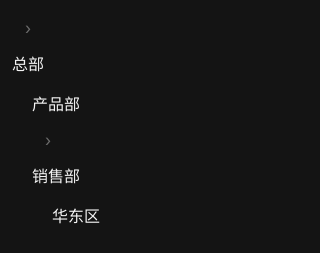
it: Tree › renders nested nodes and lets a branch collapse and expand
Expected: the button "总部" is shown, [12,44,44,84]
Expected: the button "产品部" is shown, [32,84,80,124]
Click the button named "收起 销售部": (48, 140) [32,124,64,156]
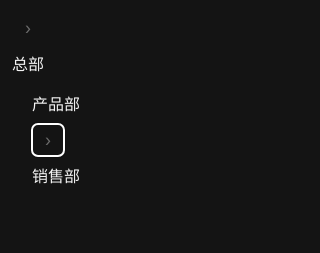
Now the button "华东区" is gone
Click the button named "展开 销售部": (48, 140) [32,124,64,156]
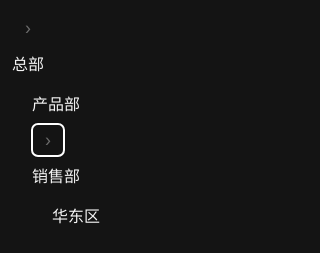
Now the button "华东区" is shown, box [52,196,100,236]
